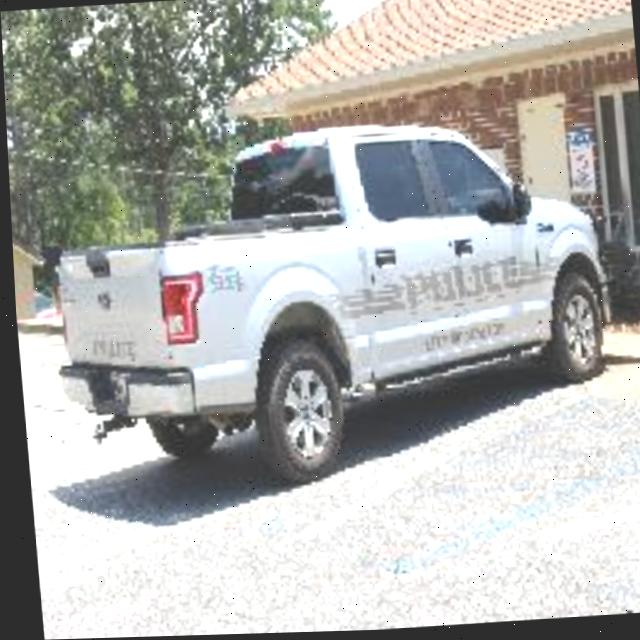emergency: (44, 89, 628, 430)
